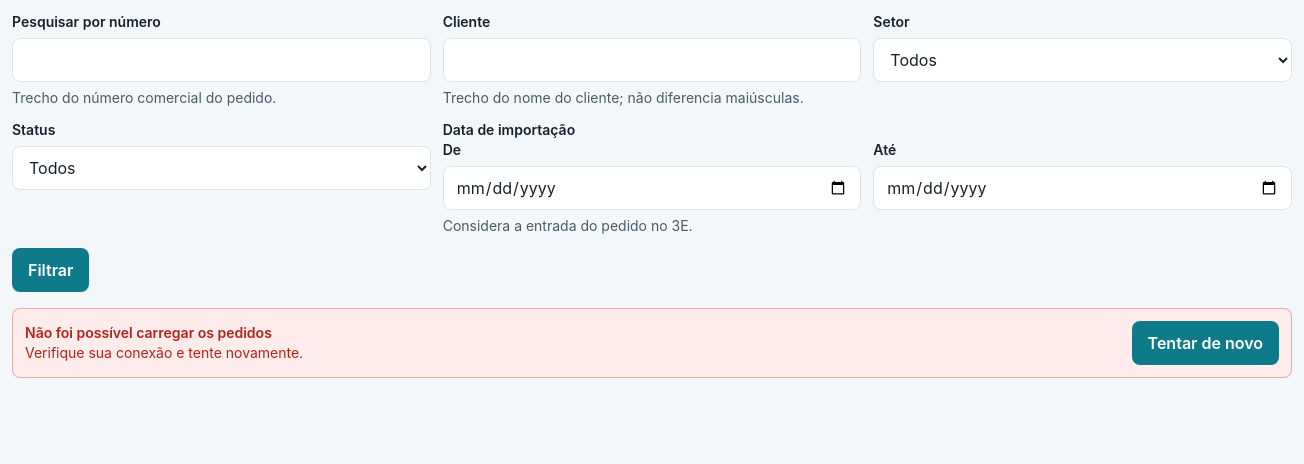
Test case: PedidosLista › mostra erro acessível e tentar de novo recarrega (FEP-13)
expect the message shows "Não foi possível carregar os pedidos": met, box [25,324,272,341]
Click the button "Tentar de novo": (1205, 343) [1132,321,1279,365]
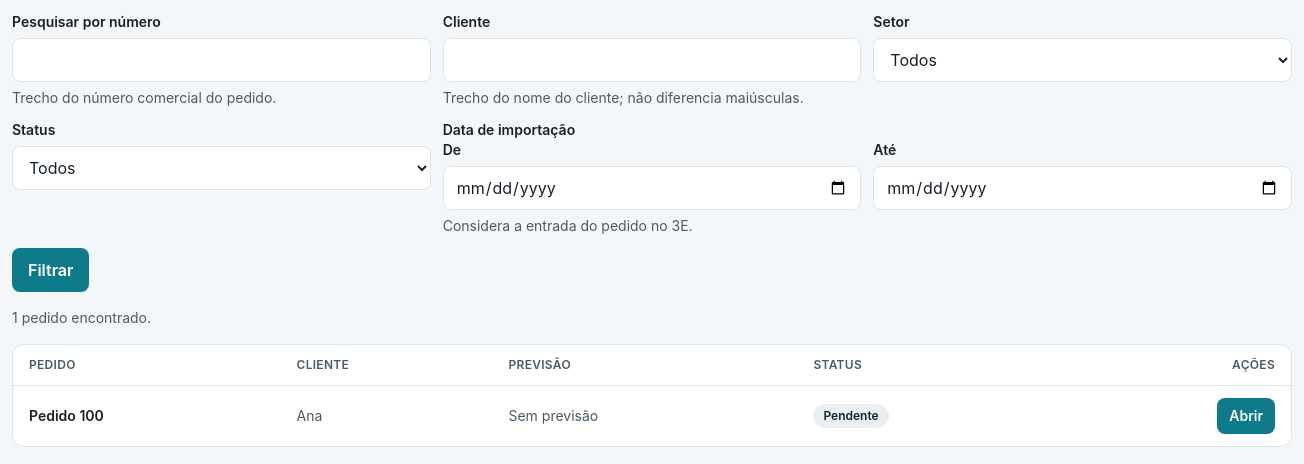
expect the text "Pedido 100" is shown: met, box [13,386,280,446]
